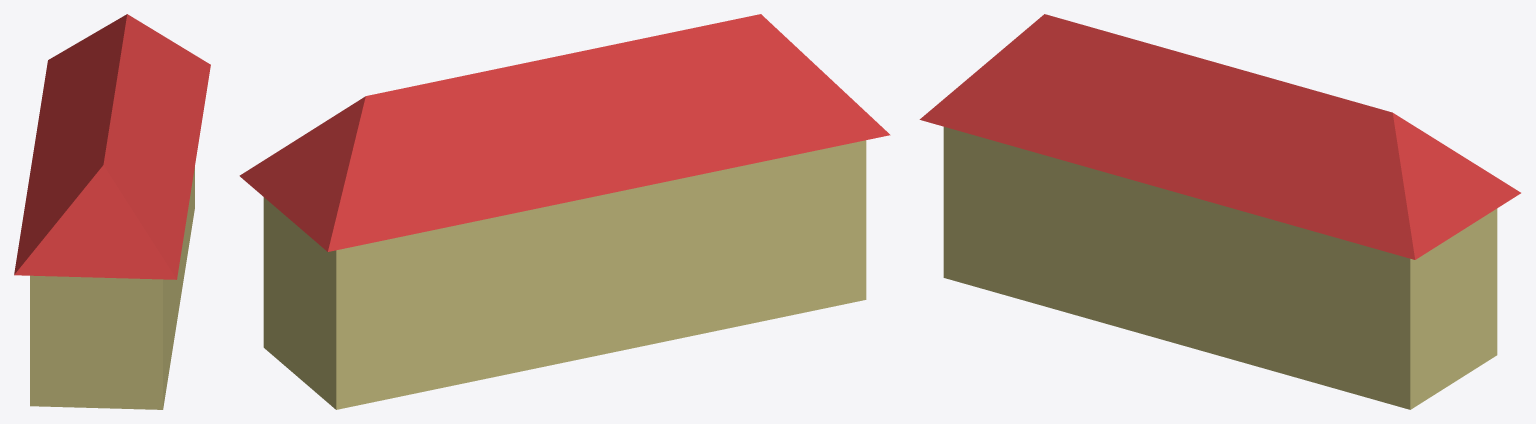
3 views of the same model, side by side, from view 1: azimuth 30°, elevation 25°; view 2: azimuth 150°, elevation 25°; view 3: azimuth 270°, elevation 25° (orthographic). The views are drawn at different scales.
Visible parts, largest first — view 1: group_3, group_5, group_4; view 2: group_5, group_3, group_4; view 3: group_5, group_3, group_4.
Boxes of the visible parts, x1,y1,x2,y2 form: group_3: (14, 14, 210, 279); group_5: (30, 167, 194, 409); group_4: (14, 52, 197, 279); group_5: (263, 140, 866, 409); group_3: (264, 14, 889, 251); group_4: (239, 160, 335, 251); group_5: (943, 127, 1497, 409); group_3: (920, 14, 1495, 259); group_4: (920, 99, 1520, 259).
Size of the model in its own units: 28.18 by 34.57 by 16.11.
